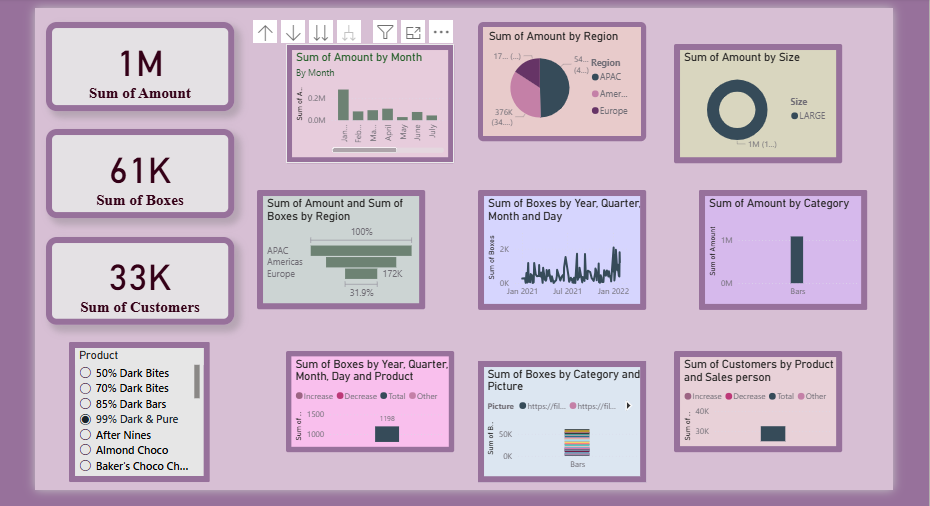

This screenshot's page, from the dashboard's own definition file:
{"tool":"powerbi","page":{"name":"Page 1","canvas":[1280,720],"ordinal":0},"visuals":[{"type":"card","fields":{"Values":["Sum(sales.Amount)"]},"box":[16.4,20.9,280.6,132.8],"z":0},{"type":"card","fields":{"Values":["Sum(sales.Boxes)"]},"box":[16.4,180.6,280.6,132.8],"z":1000},{"type":"card","fields":{"Values":["Sum(sales.Customers)"]},"box":[16.4,341.8,280.6,131.3],"z":2000},{"type":"columnChart","fields":{"Category":["sales.Date.Variation.Date Hierarchy.Year","sales.Date.Variation.Date Hierarchy.Quarter","sales.Date.Variation.Date Hierarchy.Month","sales.Date.Variation.Date Hierarchy.Day"],"Y":["Sum(sales.Amount)"]},"box":[374.6,53.7,250.7,177.6],"z":3000},{"type":"pieChart","fields":{"Category":["locations.Region"],"Y":["Sum(sales.Amount)"]},"box":[661.2,20.9,250.7,177.6],"z":4000},{"type":"donutChart","fields":{"Y":["Sum(sales.Amount)"],"Series":["products.Size"]},"box":[953.7,53.7,250.7,177.6],"z":5000},{"type":"funnel","fields":{"Y":["Sum(sales.Amount)"],"Category":["locations.Region"]},"box":[331.3,271.6,250.7,177.6],"z":6000},{"type":"lineChart","fields":{"Category":["sales.Date.Variation.Date Hierarchy.Year","sales.Date.Variation.Date Hierarchy.Quarter","sales.Date.Variation.Date Hierarchy.Month","sales.Date.Variation.Date Hierarchy.Day"],"Y":["Sum(sales.Boxes)"]},"box":[661.2,271.6,250.7,179.1],"z":7000},{"type":"ribbonChart","fields":{"Y":["Sum(sales.Amount)"],"Category":["products.Category"]},"box":[991,271.6,250.7,179.1],"z":8000},{"type":"waterfallChart","fields":{"Category":["sales.Date.Variation.Date Hierarchy.Year","sales.Date.Variation.Date Hierarchy.Quarter","sales.Date.Variation.Date Hierarchy.Month","sales.Date.Variation.Date Hierarchy.Day"],"Breakdown":["products.Product"],"Y":["Sum(sales.Boxes)"]},"box":[374.6,511.9,250.7,150.7],"z":9000},{"type":"waterfallChart","fields":{"Y":["Sum(sales.Customers)"],"Category":["products.Product"],"Breakdown":["people.Sales person"]},"box":[953.7,511.9,250.7,150.7],"z":11000},{"type":"listSlicer","fields":{"Values":["products.Product"]},"box":[50.7,498.5,210.4,209],"z":12000},{"type":"lineStackedColumnComboChart","fields":{"Y":["Sum(sales.Boxes)"],"Category":["products.Category"],"Series":["people.Picture"]},"box":[661.2,526.9,250.7,180.6],"z":12001}]}

Visuals, with their boxes in screenshot pixels (x1, y1, x2, y2):
card - Sum(sales.Amount): crop(45, 21, 233, 110)
card - Sum(sales.Boxes): crop(45, 128, 233, 217)
card - Sum(sales.Customers): crop(45, 236, 233, 324)
columnChart - sales.Date.Variation.Date Hierarchy.Year x sales.Date.Variation.Date Hierarchy.Quarter: crop(284, 43, 452, 162)
pieChart - locations.Region x Sum(sales.Amount): crop(476, 21, 644, 140)
donutChart - Sum(sales.Amount) x products.Size: crop(672, 43, 839, 162)
funnel - Sum(sales.Amount) x locations.Region: crop(255, 189, 423, 308)
lineChart - sales.Date.Variation.Date Hierarchy.Year x sales.Date.Variation.Date Hierarchy.Quarter: crop(476, 189, 644, 309)
ribbonChart - Sum(sales.Amount) x products.Category: crop(697, 189, 864, 309)
waterfallChart - sales.Date.Variation.Date Hierarchy.Year x sales.Date.Variation.Date Hierarchy.Quarter: crop(284, 350, 452, 450)
waterfallChart - Sum(sales.Customers) x products.Product: crop(672, 350, 839, 450)
listSlicer - products.Product: crop(68, 341, 209, 480)
lineStackedColumnComboChart - Sum(sales.Boxes) x products.Category: crop(476, 360, 644, 480)
